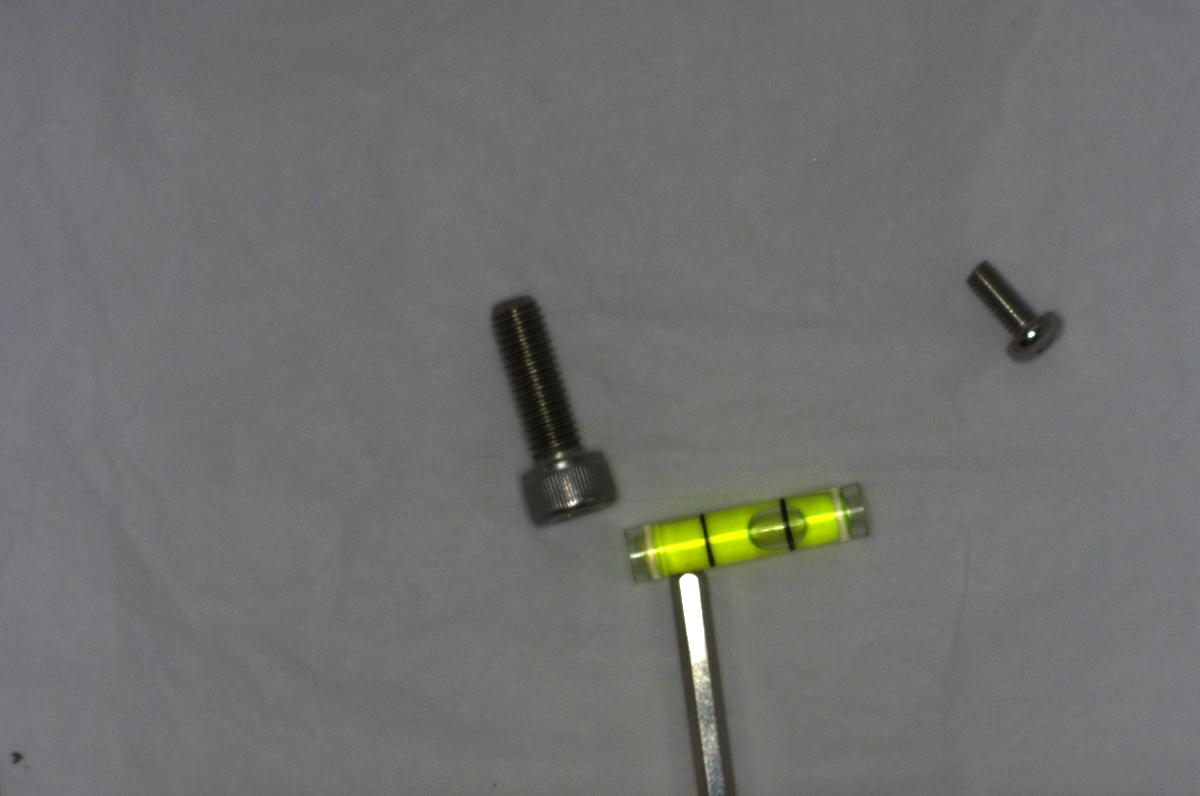Double hexagonal column: (664, 569, 747, 787)
Hexagon screw: (484, 294, 617, 525)
Horizontal bubble: (617, 474, 882, 588)
Round head screw: (958, 250, 1066, 365)
